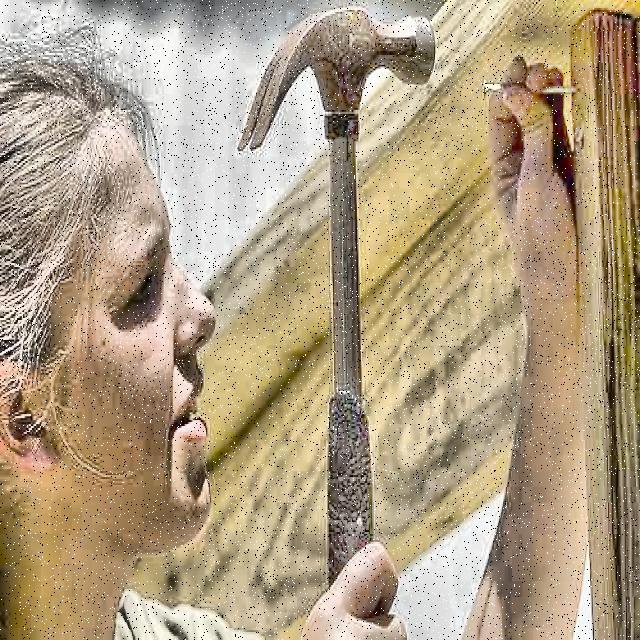hammer: (237, 6, 436, 640)
